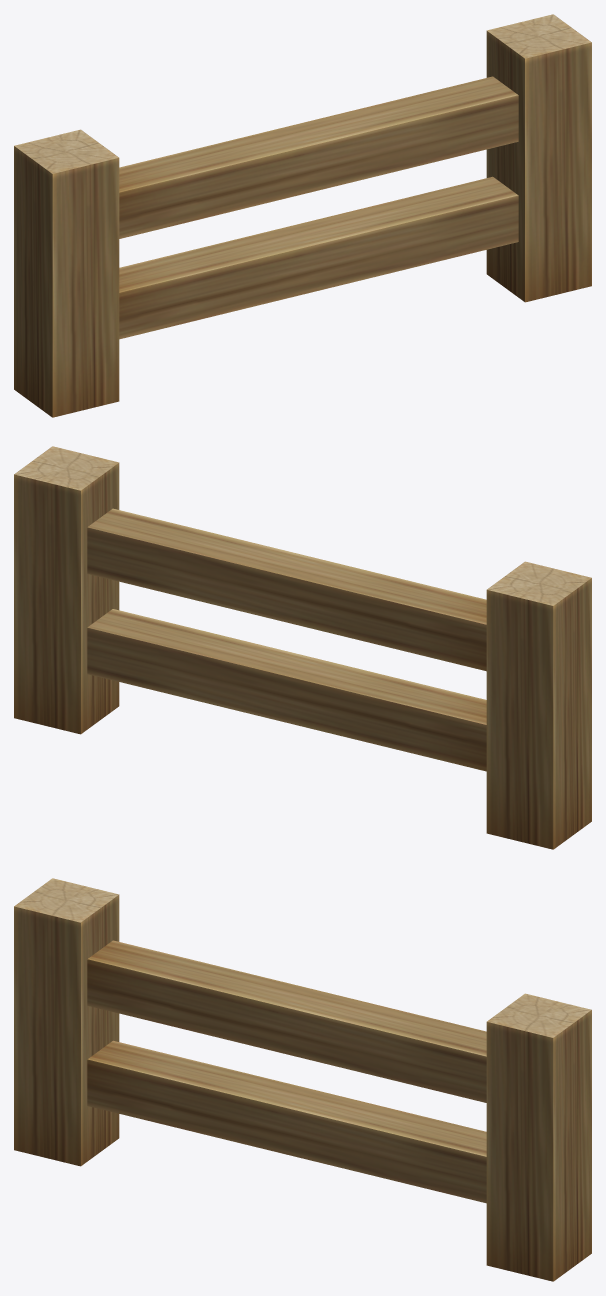
Rendered from WoodFence01.FBX.
The picture shows the model from 3 angles, top to bottom: view 1: azimuth 30°, elevation 25°; view 2: azimuth 150°, elevation 25°; view 3: azimuth 330°, elevation 25°; orthographic projection.
Visible parts, largest first — view 1: WoodFence01; view 2: WoodFence01; view 3: WoodFence01.
Boxes of the visible parts, x1,y1,x2,y2 form: WoodFence01: (14, 14, 591, 417); WoodFence01: (14, 446, 591, 849); WoodFence01: (14, 878, 591, 1281).
Size of the model in its own units: 190 by 82.06 by 23.55.
